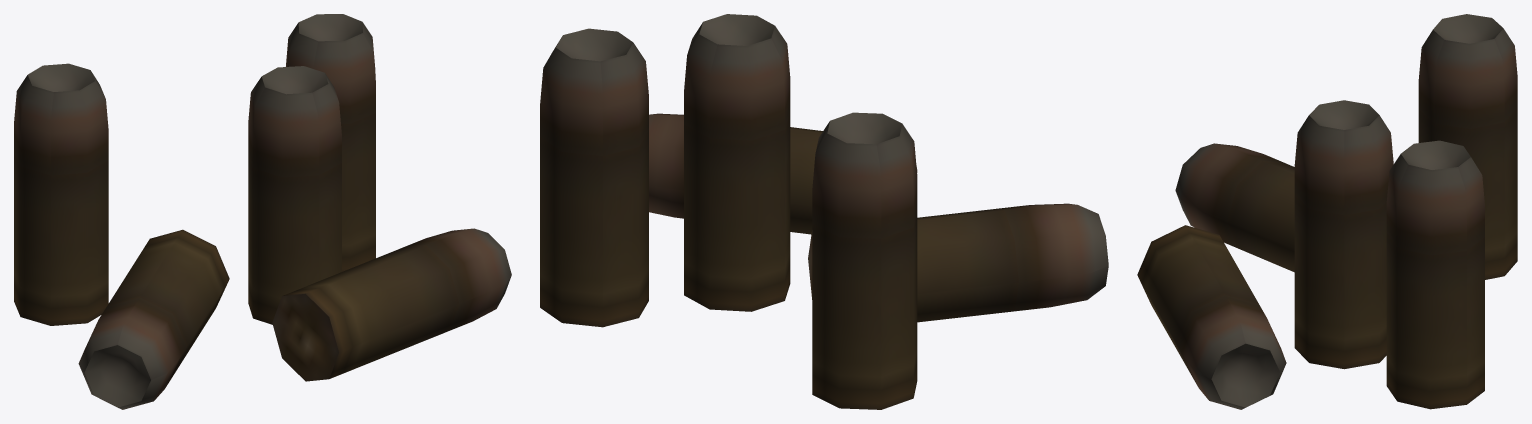
The model's file is ammo_pistol_loose_5pcs_mp_2.fbx.
3 views of the same model, side by side, from view 1: azimuth 30°, elevation 25°; view 2: azimuth 150°, elevation 25°; view 3: azimuth 270°, elevation 25° (orthographic). The views are drawn at different scales.
Parts seen in each view (by area): view 1: ammo_pistol_loose_5pcs_mp_2; view 2: ammo_pistol_loose_5pcs_mp_2; view 3: ammo_pistol_loose_5pcs_mp_2.
Boxes of the visible parts, <box> form: ammo_pistol_loose_5pcs_mp_2: <box>14,14,511,409</box>; ammo_pistol_loose_5pcs_mp_2: <box>540,14,1108,409</box>; ammo_pistol_loose_5pcs_mp_2: <box>1137,14,1517,409</box>.
Bounding box in the file's own units: 0.0631 × 0.0327 × 0.0484.
1 material, 1 textured.
